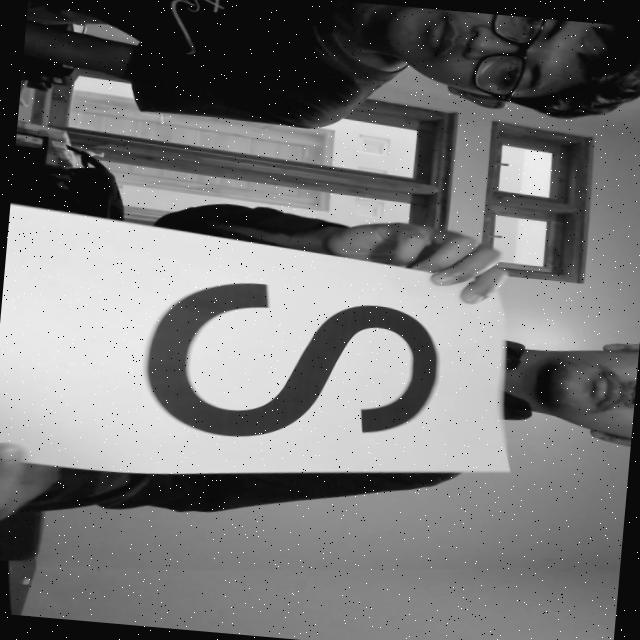s: (112, 262, 462, 473)
